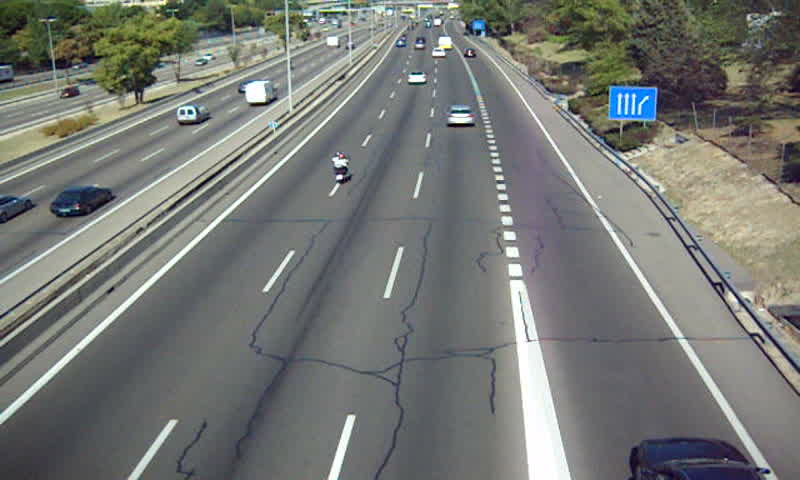car: (444, 104, 476, 128), (406, 69, 426, 84)
motorcycle: (332, 150, 350, 182)
